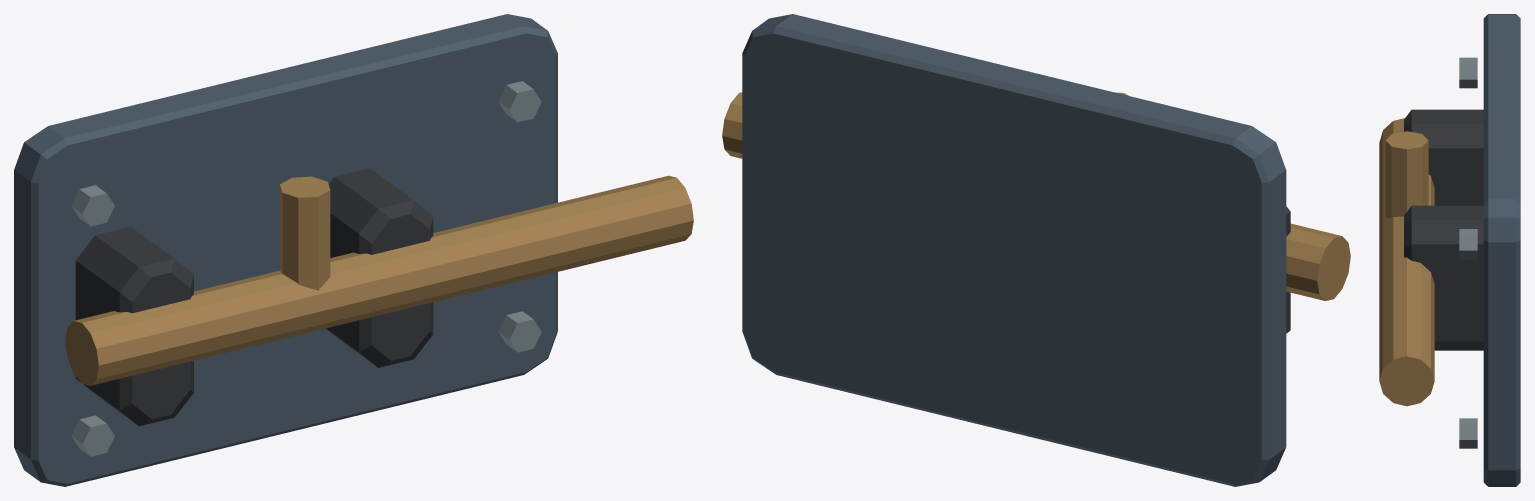
The model's file is G-10_latch.glb.
The picture shows the model from 3 angles, left to right: view 1: azimuth 30°, elevation 25°; view 2: azimuth 150°, elevation 25°; view 3: azimuth 270°, elevation 25°; orthographic projection. The views are drawn at different scales.
Parts seen in each view (by area): view 1: G-10_latch; view 2: G-10_latch; view 3: G-10_latch.
Part boxes in pixels (x1=…): G-10_latch: x1=14, y1=14, x2=693, y2=486; G-10_latch: x1=722, y1=14, x2=1350, y2=486; G-10_latch: x1=1379, y1=14, x2=1520, y2=486.
Size of the model in its own units: 0.1845 by 0.103 by 0.046.
